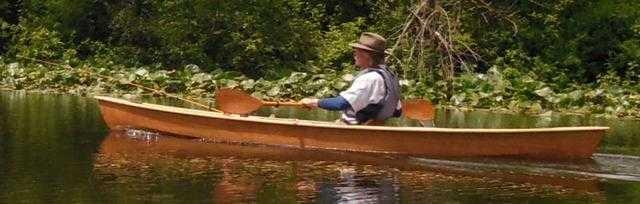kayak: (97, 90, 611, 167)
